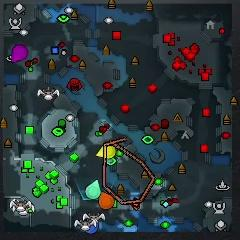p1: (84, 221, 101, 234)
p2: (86, 181, 99, 199)
p3: (11, 45, 29, 63)
p4: (96, 144, 118, 159)
p5: (100, 192, 115, 210)
